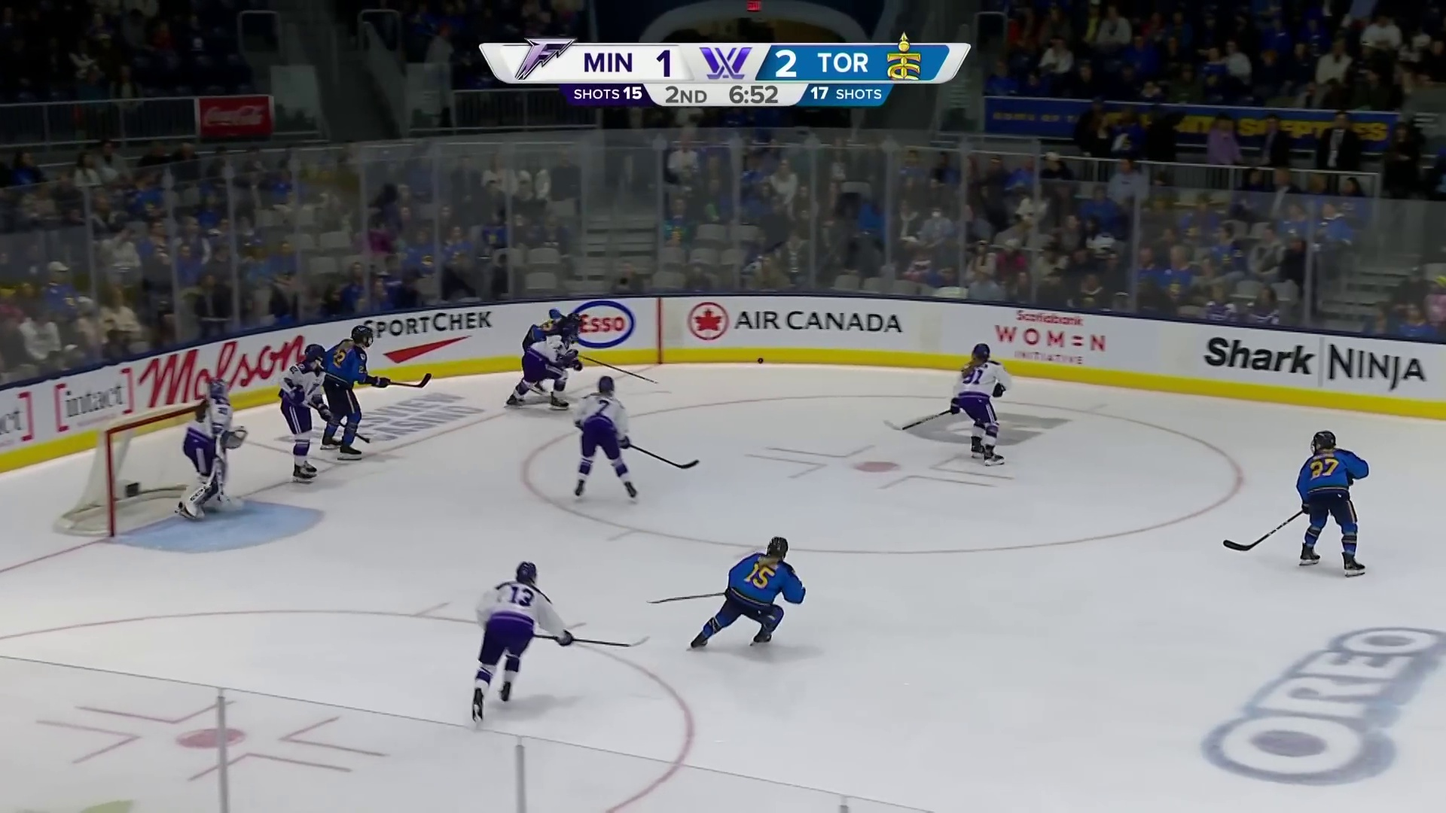goaltender: (177, 378, 250, 522)
player: (470, 559, 575, 723), (685, 536, 807, 648), (1293, 428, 1370, 581), (321, 324, 391, 459), (572, 374, 643, 504), (279, 343, 336, 484), (950, 342, 1013, 468), (502, 324, 578, 410)
puck: (757, 356, 765, 364)
